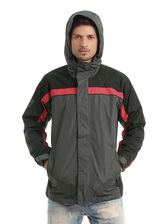clothoes: (24, 6, 142, 203)
